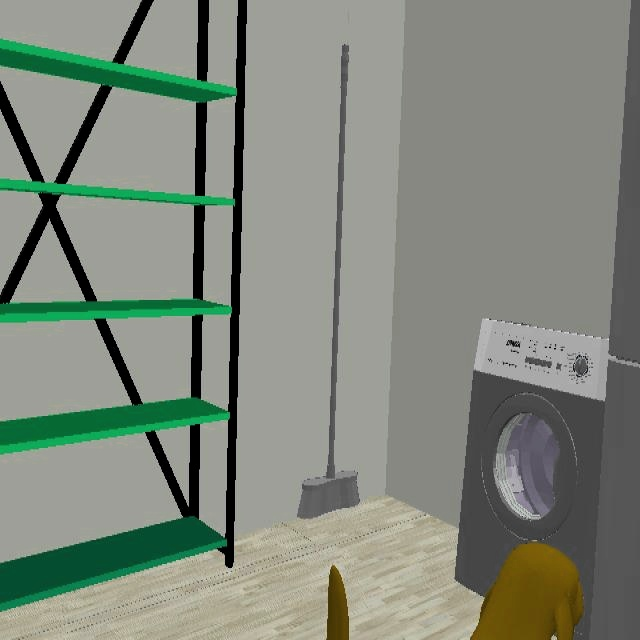shelf: (0, 0, 246, 609)
